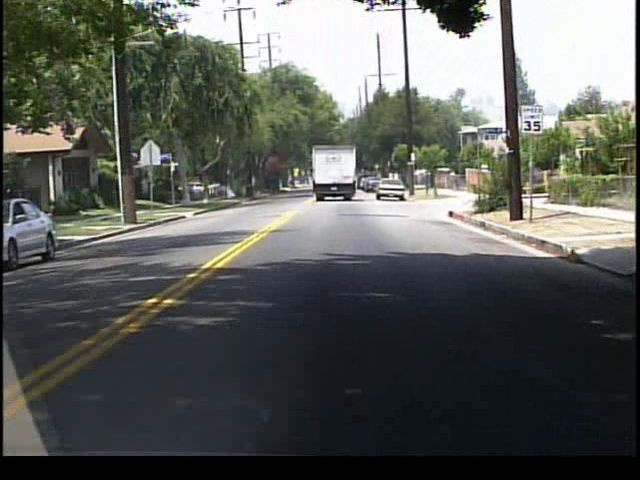person: (447, 167, 458, 191)
